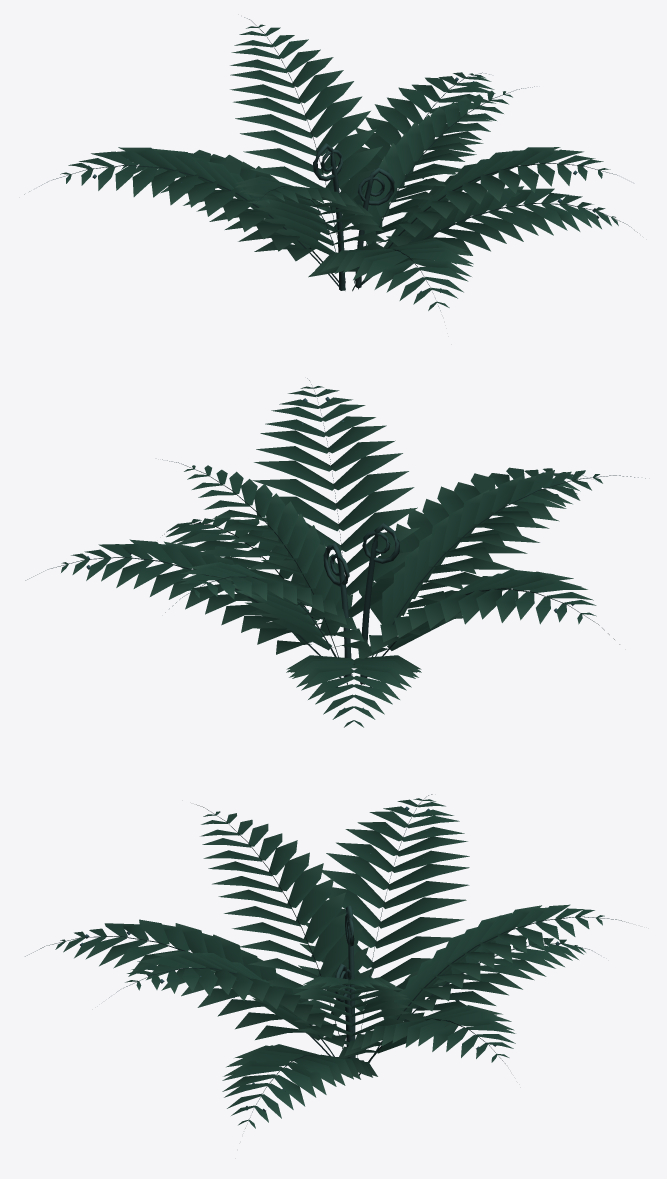
File: fern_lod0.glb
The picture shows the model from 3 angles, top to bottom: view 1: azimuth 30°, elevation 25°; view 2: azimuth 150°, elevation 25°; view 3: azimuth 270°, elevation 25°; orthographic projection. The views are drawn at different scales.
Visible parts, largest first — view 1: fern_lod0; view 2: fern_lod0; view 3: fern_lod0.
Part boxes in pixels (left/top/right/bottom): fern_lod0: left=24, top=17, right=637, bottom=310; fern_lod0: left=25, top=378, right=645, bottom=727; fern_lod0: left=25, top=794, right=628, bottom=1128.
Bounding box in the file's own units: 2.02 × 0.6456 × 2.04.
